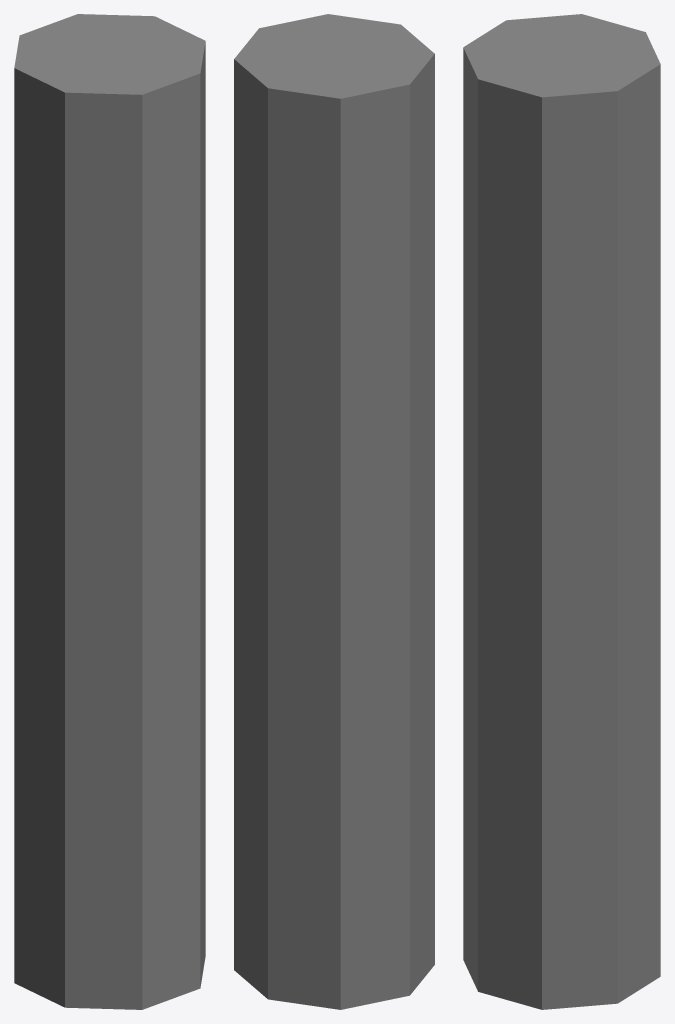
The model's file is harpoon_2.fbx.
3 renders of one model, left to right at view 1: azimuth 30°, elevation 25°; view 2: azimuth 150°, elevation 25°; view 3: azimuth 270°, elevation 25°, orthographic.
Visible parts, largest first — view 1: Cylinder.005; view 2: Cylinder.005; view 3: Cylinder.005.
Boxes of the visible parts, x1,y1,x2,y2 form: Cylinder.005: [14, 14, 205, 1009]; Cylinder.005: [234, 14, 434, 1009]; Cylinder.005: [463, 14, 660, 1009].
Bounding box in the file's own units: 11.76 × 60 × 11.76.
